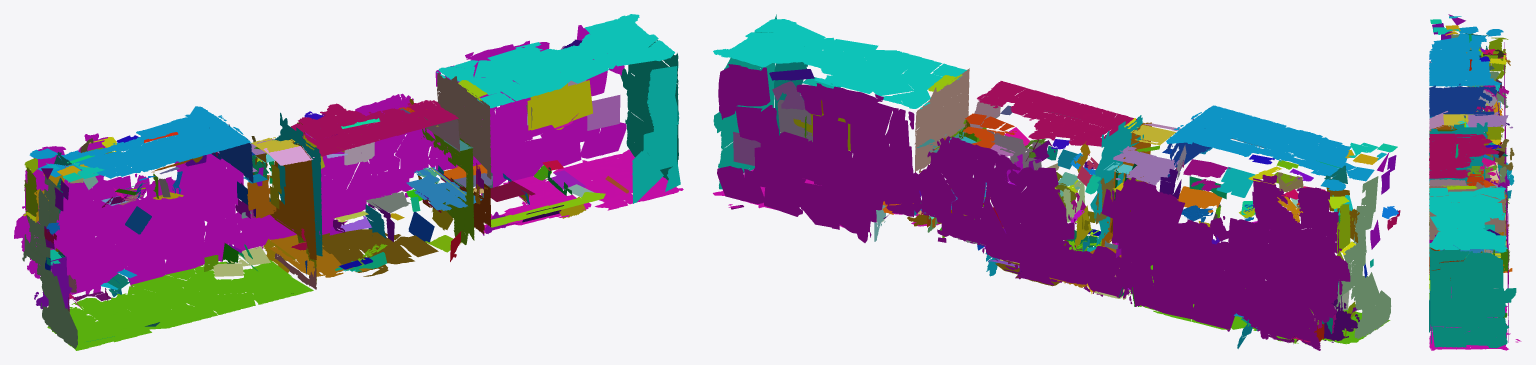
Rendered from planarsplat_scene078.glb.
The picture shows the model from 3 angles, left to right: view 1: azimuth 30°, elevation 25°; view 2: azimuth 150°, elevation 25°; view 3: azimuth 270°, elevation 25°; orthographic projection. The views are drawn at different scales.
Bounding box in the file's own units: 16.55 × 4.7 × 2.93.
